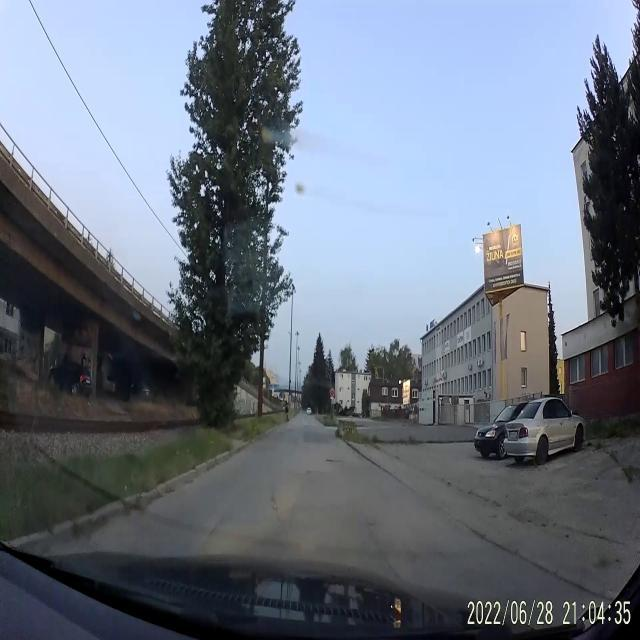Pothole: (324, 454, 346, 470), (368, 520, 378, 529)
